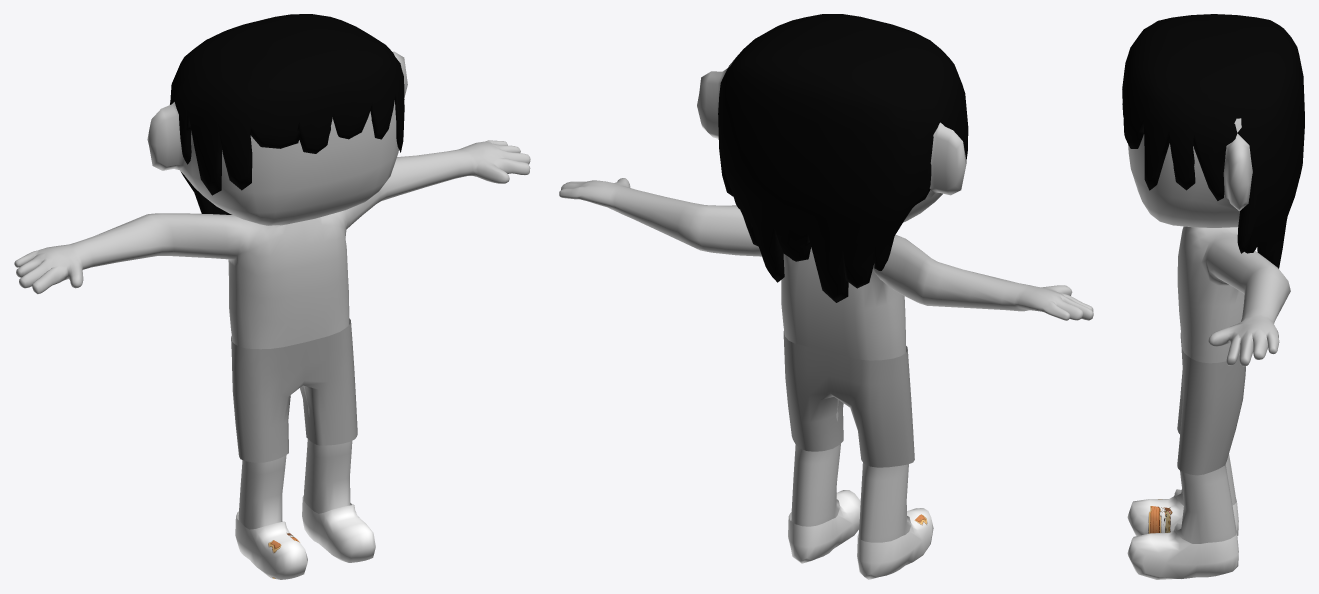
The model's file is MAY DAMIT.fbx.
3 renders of one model, left to right at view 1: azimuth 30°, elevation 25°; view 2: azimuth 150°, elevation 25°; view 3: azimuth 270°, elevation 25°, orthographic. The views are drawn at different scales.
Visible parts, largest first — view 1: KATAwAN, U3, short, SHOES1; view 2: U3, KATAwAN, short, SHOES1; view 3: U3, KATAwAN, short, SHOES1.
Part boxes in pixels (x1,y1,x2,y2): KATAwAN: (14,51,530,529); U3: (170,14,404,214); short: (231,318,357,462); SHOES1: (235,495,375,579); U3: (718,14,968,302); KATAwAN: (559,59,1093,542); short: (783,331,914,467); SHOES1: (788,490,933,579); U3: (1122,14,1304,268); KATAwAN: (1128,118,1290,543); short: (1177,333,1245,475); SHOES1: (1127,489,1238,579).
Size of the model in its own units: 3.42 by 3.28 by 1.04.
